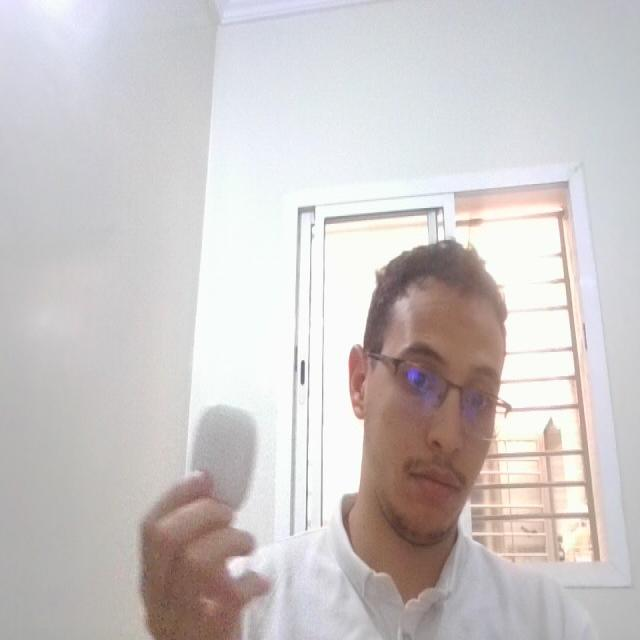airpods: (186, 395, 263, 516)
